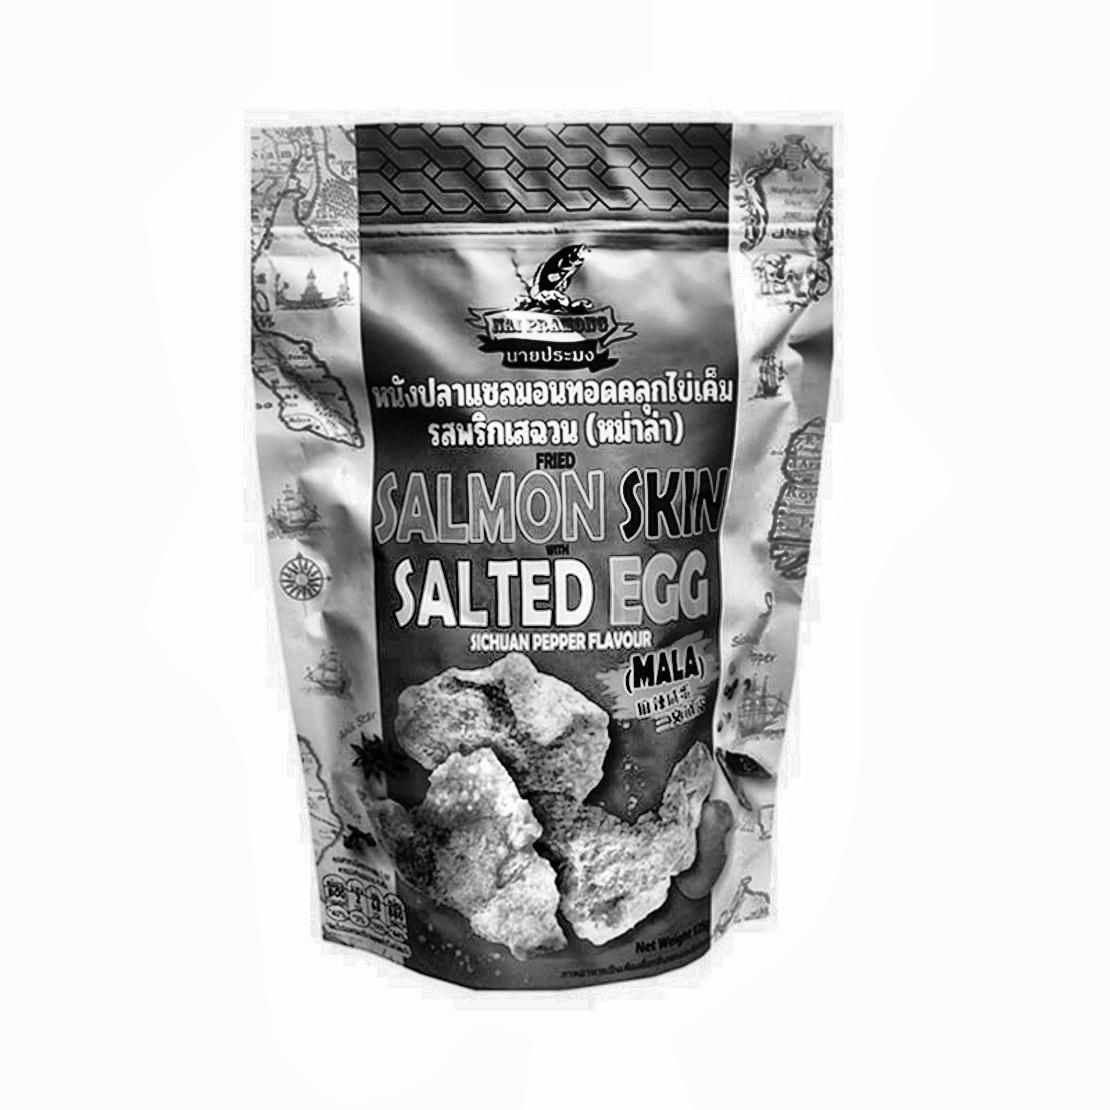snackbag: (176, 58, 902, 1037)
